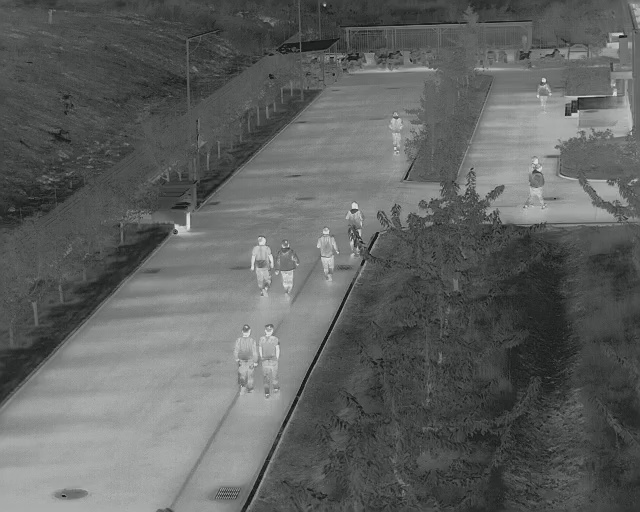person: (260, 319, 284, 400), (234, 321, 259, 396), (274, 237, 300, 301), (249, 232, 274, 297), (316, 225, 341, 282), (523, 156, 545, 207), (345, 201, 363, 257), (389, 110, 404, 157), (535, 75, 553, 112)
